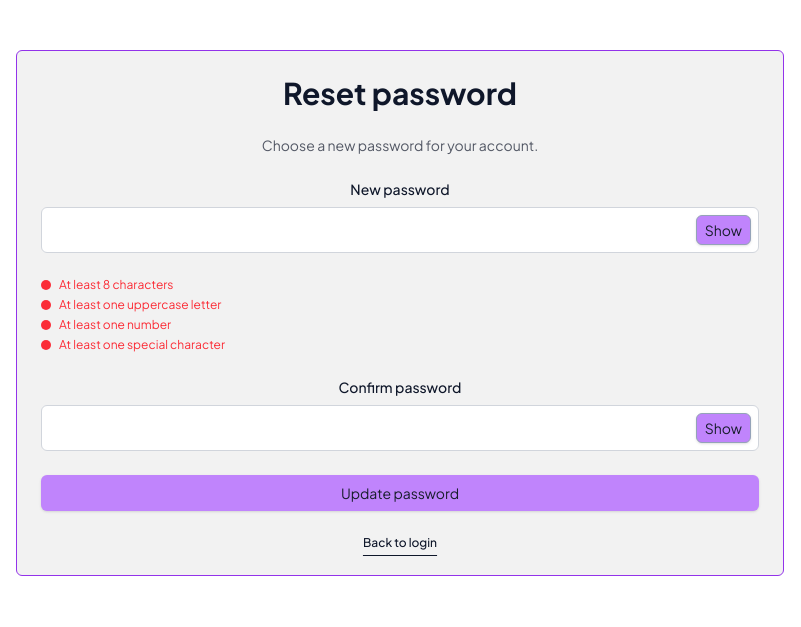
Scenario: ResetPassword › shows invalid token message when backend returns non_field_errors
In the password field labelled "New password": (400, 230) [41,207,759,253], type "Abcd1234!"
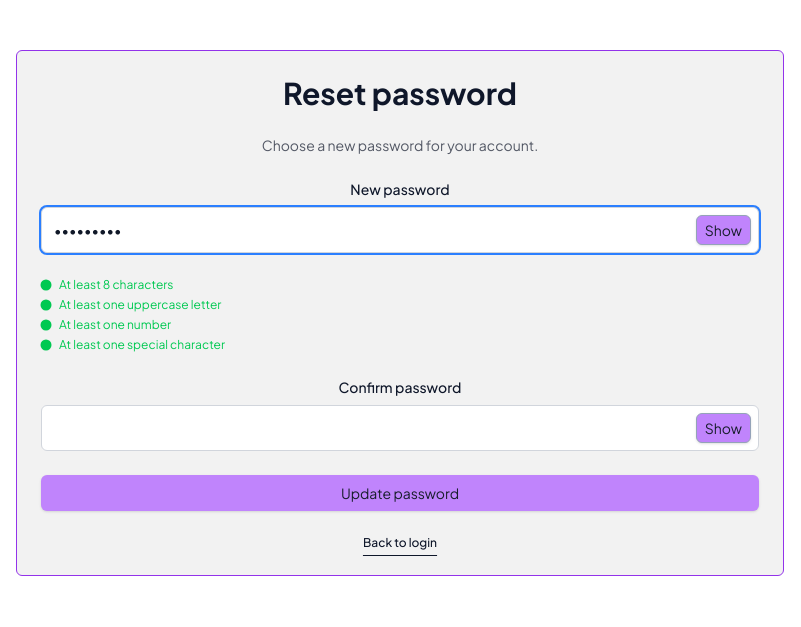
In the password field labelled "Confirm password": (400, 428) [41,405,759,451], type "Abcd1234!"
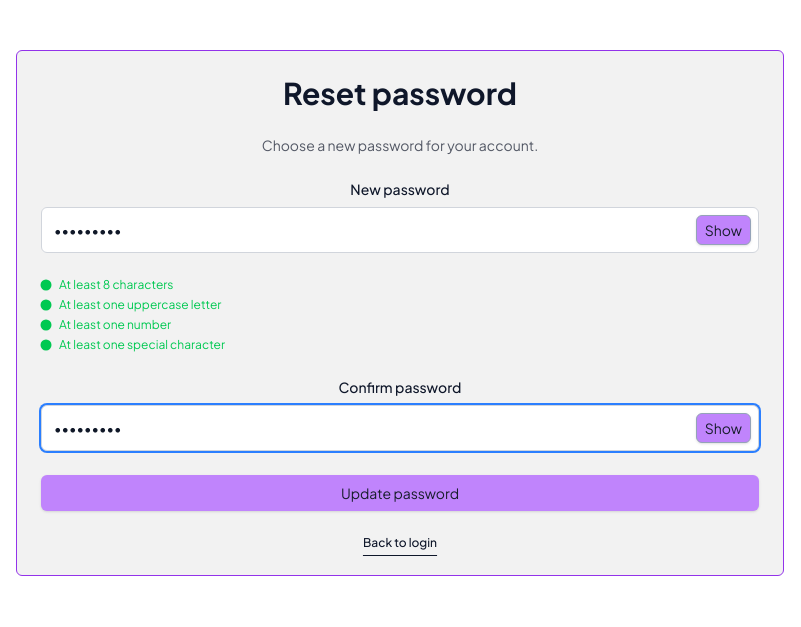
Click the button "Update password": (400, 493) [41,475,759,511]
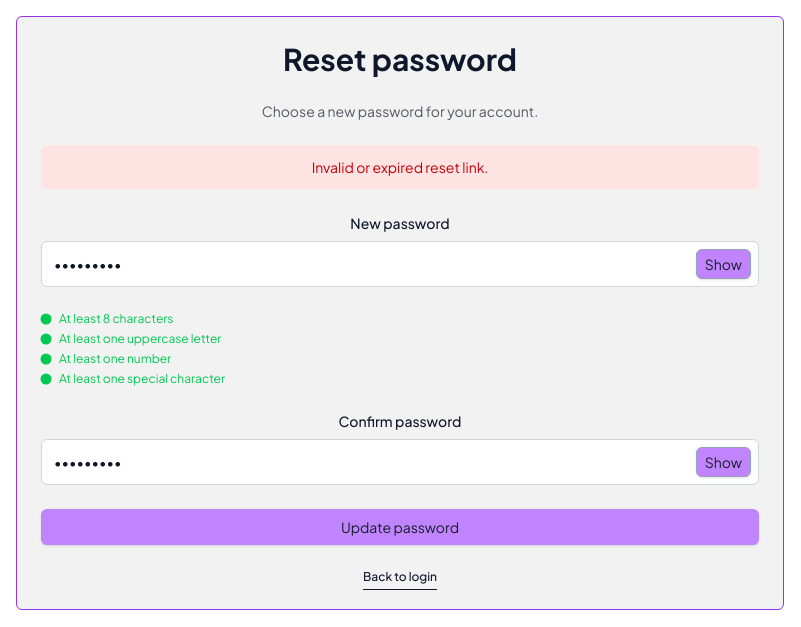
Expected: the text "Invalid or expired reset link." is shown, [41,145,759,189]
